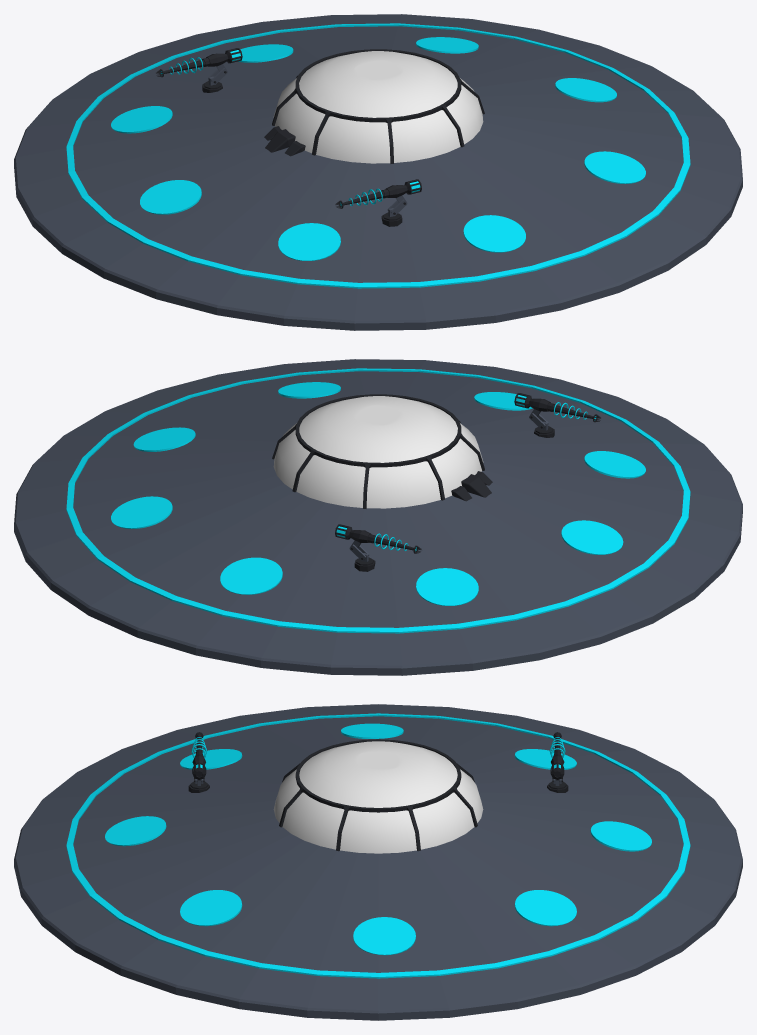
Rendered from UFO$.fbx.
3 renders of one model, top to bottom at view 1: azimuth 30°, elevation 25°; view 2: azimuth 150°, elevation 25°; view 3: azimuth 270°, elevation 25°, orthographic.
Parts seen in each view (by area): view 1: UFO, outside lights, Window, Window frame, laser droit, laser droit.001; view 2: UFO, outside lights, Window, Window frame, laser droit.001, laser droit; view 3: UFO, outside lights, Window, Window frame, laser droit, laser droit.001.
Boxes of the visible parts, left/top/right/bottom form: UFO: left=14, top=14, right=742, bottom=330; outside lights: left=66, top=23, right=690, bottom=288; Window: left=273, top=51, right=483, bottom=163; Window frame: left=272, top=49, right=484, bottom=163; laser droit: left=335, top=179, right=421, bottom=226; laser droit.001: left=156, top=48, right=242, bottom=92; UFO: left=14, top=359, right=742, bottom=675; outside lights: left=66, top=368, right=690, bottom=633; Window: left=273, top=396, right=483, bottom=508; Window frame: left=272, top=394, right=484, bottom=508; laser droit.001: left=335, top=524, right=421, bottom=571; laser droit: left=514, top=393, right=600, bottom=437; UFO: left=14, top=704, right=742, bottom=1020; outside lights: left=66, top=713, right=690, bottom=978; Window: left=273, top=741, right=483, bottom=853; Window frame: left=279, top=739, right=477, bottom=851; laser droit: left=188, top=732, right=209, bottom=792; laser droit.001: left=547, top=732, right=568, bottom=792.
Bounding box in the file's own units: 10671 × 1715 × 10671.
